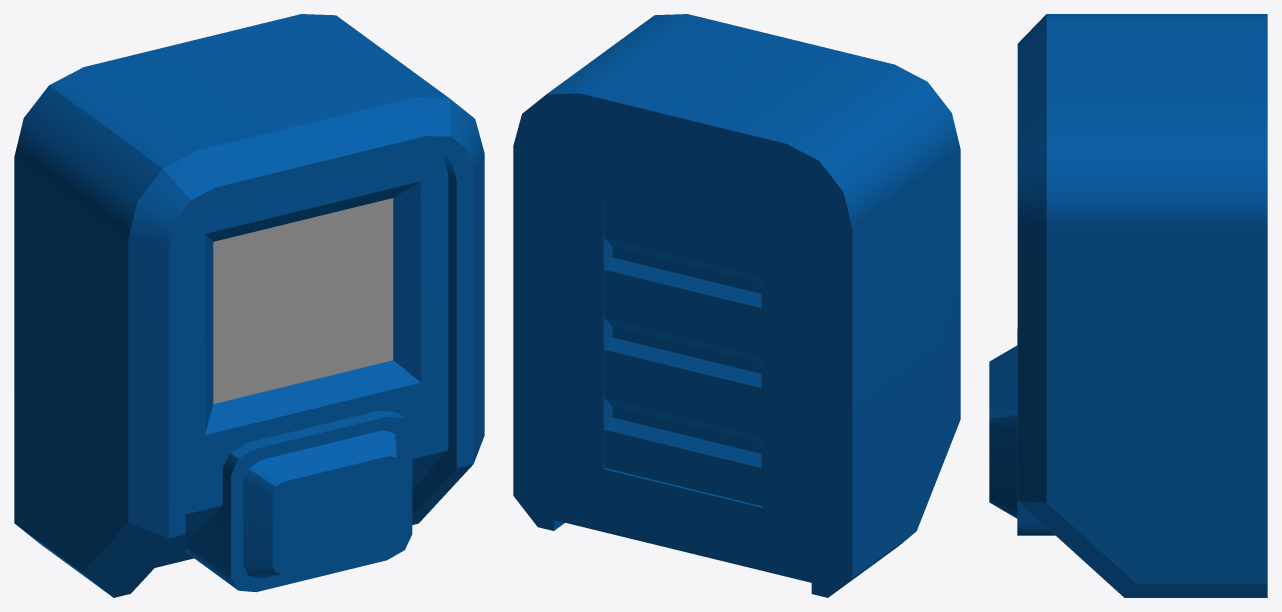
File: obj_survivalobjects_elevatorcallbutton.fbx
3 renders of one model, left to right at view 1: azimuth 30°, elevation 25°; view 2: azimuth 150°, elevation 25°; view 3: azimuth 270°, elevation 25°, orthographic. The views are drawn at different scales.
Parts seen in each view (by area): view 1: obj_warehouse_elevatorcallbutton; view 2: obj_warehouse_elevatorcallbutton; view 3: obj_warehouse_elevatorcallbutton.
Part boxes in pixels (x1,y1,x2,y2): obj_warehouse_elevatorcallbutton: (14, 14, 484, 597); obj_warehouse_elevatorcallbutton: (513, 14, 960, 597); obj_warehouse_elevatorcallbutton: (989, 14, 1267, 597).
Bounding box in the file's own units: 1.6 × 2 × 1.11.
